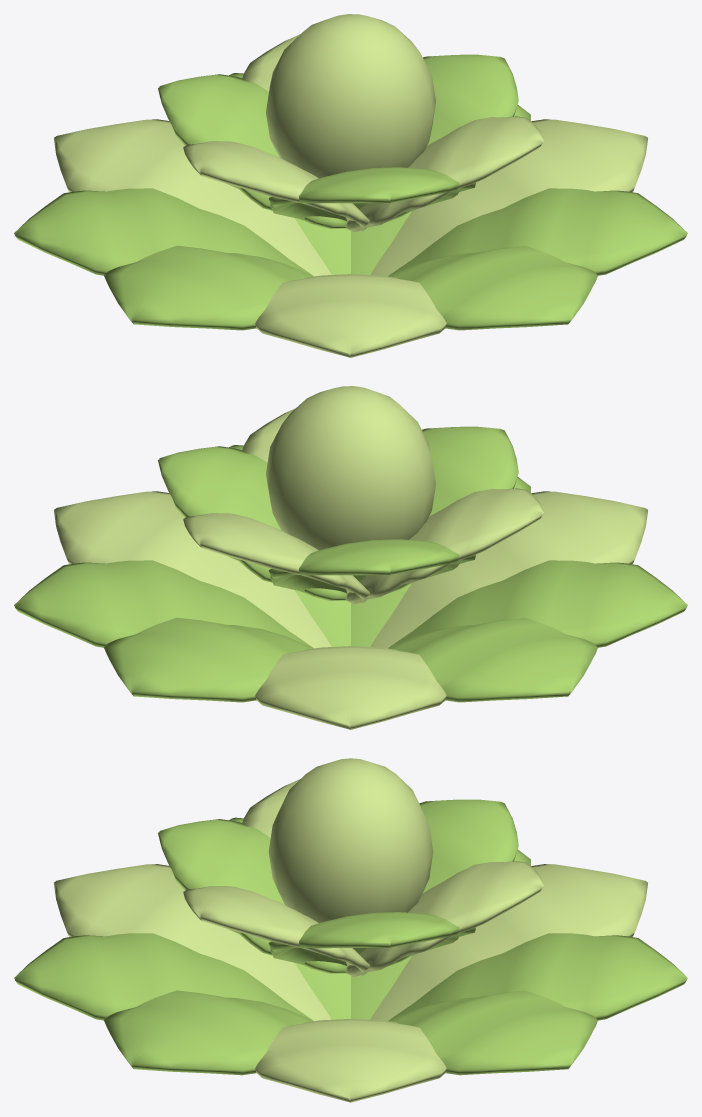
File: lettuce.glb
3 renders of one model, top to bottom at view 1: azimuth 30°, elevation 25°; view 2: azimuth 150°, elevation 25°; view 3: azimuth 270°, elevation 25°, orthographic.
Parts seen in each view (by area): view 1: Lettuce | heart.001, Lettuce | broad ruffled outer leaf.015, Lettuce | broad ruffled outer leaf.014, Lettuce | broad ruffled outer leaf.017, Lettuce | broad ruffled outer leaf.016, Lettuce | broad ruffled outer leaf.010, Lettuce | broad ruffled outer leaf.013, Lettuce | broad ruffled outer leaf.012, Lettuce | inner cup leaf.011, Lettuce | inner cup leaf.006, Lettuce | inner cup leaf.009, Lettuce | inner cup leaf.007 (+4 smaller); view 2: Lettuce | heart.001, Lettuce | broad ruffled outer leaf.010, Lettuce | broad ruffled outer leaf.011, Lettuce | broad ruffled outer leaf.016, Lettuce | broad ruffled outer leaf.012, Lettuce | broad ruffled outer leaf.009, Lettuce | broad ruffled outer leaf.014, Lettuce | broad ruffled outer leaf.017, Lettuce | inner cup leaf.009, Lettuce | inner cup leaf.008, Lettuce | inner cup leaf.007, Lettuce | inner cup leaf.011 (+4 smaller); view 3: Lettuce | heart.001, Lettuce | broad ruffled outer leaf.009, Lettuce | broad ruffled outer leaf.013, Lettuce | broad ruffled outer leaf.012, Lettuce | broad ruffled outer leaf.017, Lettuce | broad ruffled outer leaf.011, Lettuce | broad ruffled outer leaf.015, Lettuce | broad ruffled outer leaf.016, Lettuce | inner cup leaf.007, Lettuce | inner cup leaf.010, Lettuce | inner cup leaf.011, Lettuce | inner cup leaf.009 (+4 smaller).
Boxes of the visible parts, <box> form: Lettuce | heart.001: <box>266,14,435,178</box>; Lettuce | broad ruffled outer leaf.015: <box>389,188,687,275</box>; Lettuce | broad ruffled outer leaf.014: <box>14,188,312,275</box>; Lettuce | broad ruffled outer leaf.017: <box>54,119,331,276</box>; Lettuce | broad ruffled outer leaf.016: <box>370,119,647,276</box>; Lettuce | broad ruffled outer leaf.010: <box>104,245,313,330</box>; Lettuce | broad ruffled outer leaf.013: <box>388,245,597,330</box>; Lettuce | broad ruffled outer leaf.012: <box>255,274,446,357</box>; Lettuce | inner cup leaf.011: <box>158,74,347,228</box>; Lettuce | inner cup leaf.006: <box>345,116,543,232</box>; Lettuce | inner cup leaf.009: <box>385,54,518,222</box>; Lettuce | inner cup leaf.007: <box>268,167,475,221</box>; Lettuce | heart.001: <box>266,386,435,550</box>; Lettuce | broad ruffled outer leaf.010: <box>389,560,687,647</box>; Lettuce | broad ruffled outer leaf.011: <box>14,560,312,647</box>; Lettuce | broad ruffled outer leaf.016: <box>54,491,331,648</box>; Lettuce | broad ruffled outer leaf.012: <box>370,491,647,648</box>; Lettuce | broad ruffled outer leaf.009: <box>104,617,313,702</box>; Lettuce | broad ruffled outer leaf.014: <box>388,617,597,702</box>; Lettuce | broad ruffled outer leaf.017: <box>255,646,446,729</box>; Lettuce | inner cup leaf.009: <box>158,446,347,600</box>; Lettuce | inner cup leaf.008: <box>345,488,543,604</box>; Lettuce | inner cup leaf.007: <box>385,426,518,594</box>; Lettuce | inner cup leaf.011: <box>268,539,475,593</box>; Lettuce | heart.001: <box>268,758,433,922</box>; Lettuce | broad ruffled outer leaf.009: <box>388,933,687,1020</box>; Lettuce | broad ruffled outer leaf.013: <box>14,933,313,1020</box>; Lettuce | broad ruffled outer leaf.012: <box>54,864,331,1021</box>; Lettuce | broad ruffled outer leaf.017: <box>370,864,647,1021</box>; Lettuce | broad ruffled outer leaf.011: <box>388,990,597,1075</box>; Lettuce | broad ruffled outer leaf.015: <box>104,990,313,1075</box>; Lettuce | broad ruffled outer leaf.016: <box>255,1018,446,1102</box>; Lettuce | inner cup leaf.007: <box>158,819,347,973</box>; Lettuce | inner cup leaf.010: <box>345,861,543,976</box>; Lettuce | inner cup leaf.011: <box>387,799,518,966</box>; Lettuce | inner cup leaf.009: <box>268,912,475,966</box>.
Size of the model in its own units: 1.53 by 0.76 by 1.55.
